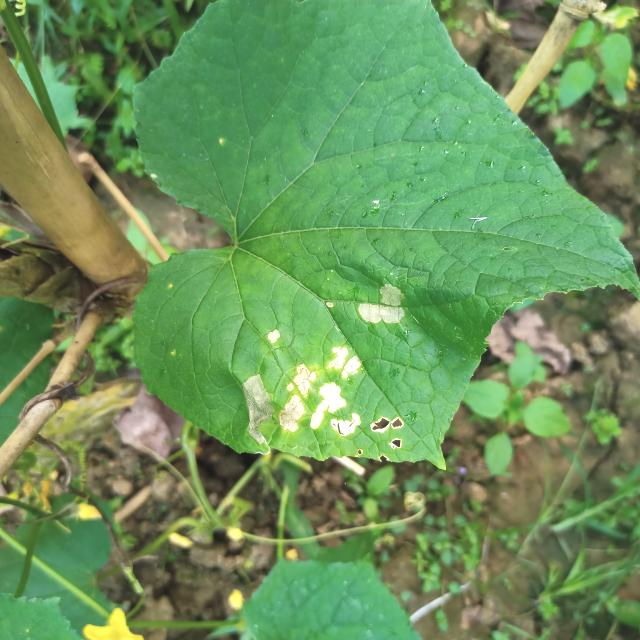disease_cucumber: (239, 343, 407, 451), (353, 283, 407, 330)
